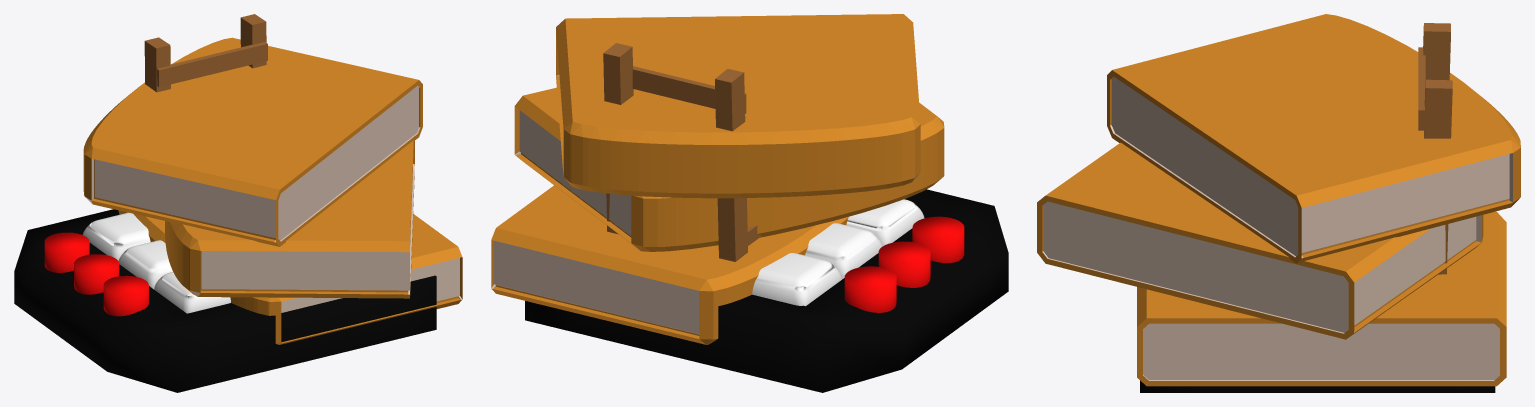
The model's file is sandalye 1.fbx.
3 renders of one model, left to right at view 1: azimuth 30°, elevation 25°; view 2: azimuth 150°, elevation 25°; view 3: azimuth 270°, elevation 25°, orthographic. The views are drawn at different scales.
Visible parts, largest first — view 1: Circle, Cube, Cube.001; view 2: Circle, Cube, Cube.001; view 3: Circle, Cube.001, Cube.
Boxes of the visible parts, x1,y1,x2,y2 form: Circle: (83, 37, 462, 344); Cube: (14, 209, 436, 392); Cube.001: (144, 14, 267, 92); Circle: (491, 14, 944, 344); Cube: (525, 189, 1008, 392); Cube.001: (603, 43, 761, 261); Circle: (1037, 14, 1520, 386); Cube.001: (1418, 23, 1452, 274); Cube: (1140, 380, 1495, 392).
Size of the model in its own units: 1186 by 748 by 1134.
